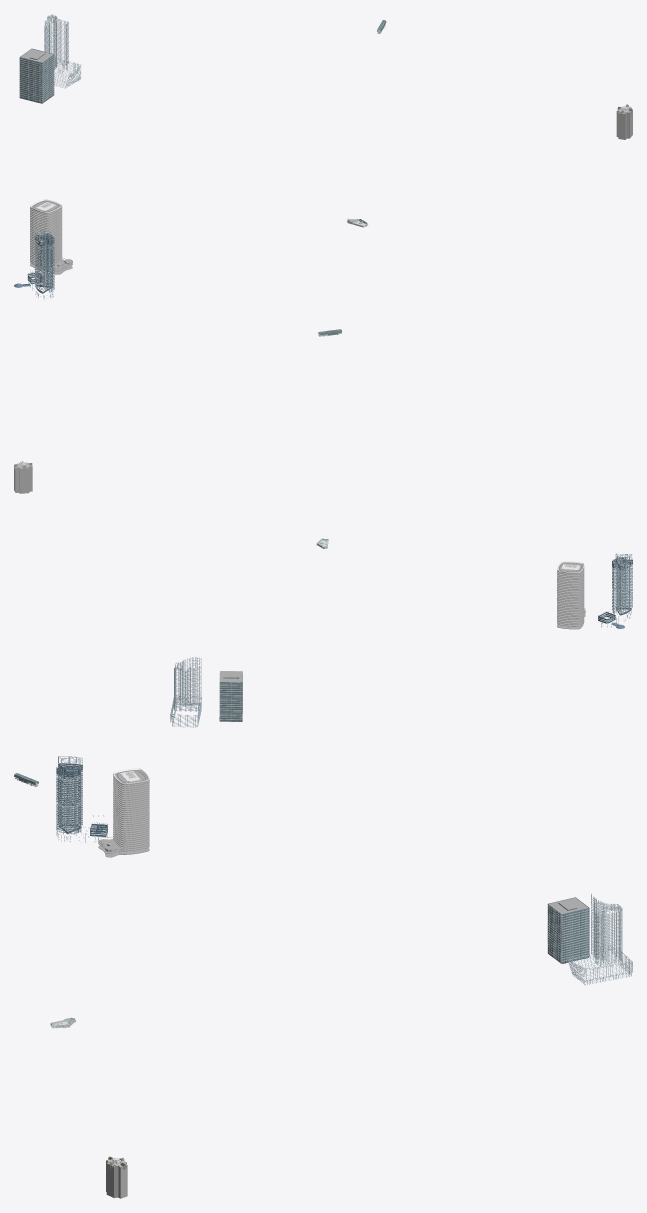
The model's file is lujiazui-6.glb.
The picture shows the model from 3 angles, top to bottom: view 1: azimuth 30°, elevation 25°; view 2: azimuth 150°, elevation 25°; view 3: azimuth 270°, elevation 25°; orthographic projection. The views are drawn at different scales.
Visible parts, largest first — view 1: source_2697_Mat3d66-1303573-2153-4388_part0, source_2524_Mat3d66-1303573-2110-2540_part0, source_2529_Mat3d66-1303573-2120-8235_part0, source_2530_Mat3d66-1303573-2110-2540_part0, source_2693_Mat3d66-1303573-2119-613_part0, source_2692_Mat3d66-1303573-2170-3213_part0, source_2666_st 特价 简模F_part0; view 2: source_2697_Mat3d66-1303573-2153-4388_part0, source_2524_Mat3d66-1303573-2110-2540_part0, source_2692_Mat3d66-1303573-2170-3213_part0, source_2693_Mat3d66-1303573-2119-613_part0, source_2529_Mat3d66-1303573-2120-8235_part0, source_2530_Mat3d66-1303573-2110-2540_part0; view 3: source_2697_Mat3d66-1303573-2153-4388_part0, source_2524_Mat3d66-1303573-2110-2540_part0, source_2530_Mat3d66-1303573-2110-2540_part0, source_2693_Mat3d66-1303573-2119-613_part0, source_2529_Mat3d66-1303573-2120-8235_part0, source_2692_Mat3d66-1303573-2170-3213_part0.
Boxes of the visible parts, <box> form: source_2697_Mat3d66-1303573-2153-4388_part0: <box>30,200,72,274</box>; source_2524_Mat3d66-1303573-2110-2540_part0: <box>44,14,81,88</box>; source_2529_Mat3d66-1303573-2120-8235_part0: <box>19,48,53,103</box>; source_2530_Mat3d66-1303573-2110-2540_part0: <box>19,48,54,103</box>; source_2693_Mat3d66-1303573-2119-613_part0: <box>16,230,54,292</box>; source_2692_Mat3d66-1303573-2170-3213_part0: <box>14,233,54,293</box>; source_2666_st 特价 简模F_part0: <box>616,107,632,139</box>; source_2697_Mat3d66-1303573-2153-4388_part0: <box>557,562,585,629</box>; source_2524_Mat3d66-1303573-2110-2540_part0: <box>170,657,201,727</box>; source_2692_Mat3d66-1303573-2170-3213_part0: <box>598,557,632,628</box>; source_2693_Mat3d66-1303573-2119-613_part0: <box>598,554,632,628</box>; source_2529_Mat3d66-1303573-2120-8235_part0: <box>219,671,242,721</box>; source_2530_Mat3d66-1303573-2110-2540_part0: <box>219,671,242,721</box>; source_2697_Mat3d66-1303573-2153-4388_part0: <box>98,770,149,857</box>; source_2524_Mat3d66-1303573-2110-2540_part0: <box>567,893,632,985</box>; source_2530_Mat3d66-1303573-2110-2540_part0: <box>547,897,589,963</box>; source_2693_Mat3d66-1303573-2119-613_part0: <box>56,756,107,836</box>; source_2529_Mat3d66-1303573-2120-8235_part0: <box>548,897,589,963</box>; source_2692_Mat3d66-1303573-2170-3213_part0: <box>56,763,107,836</box>.
Bounding box in the file's own units: 1411 × 449 × 999.
